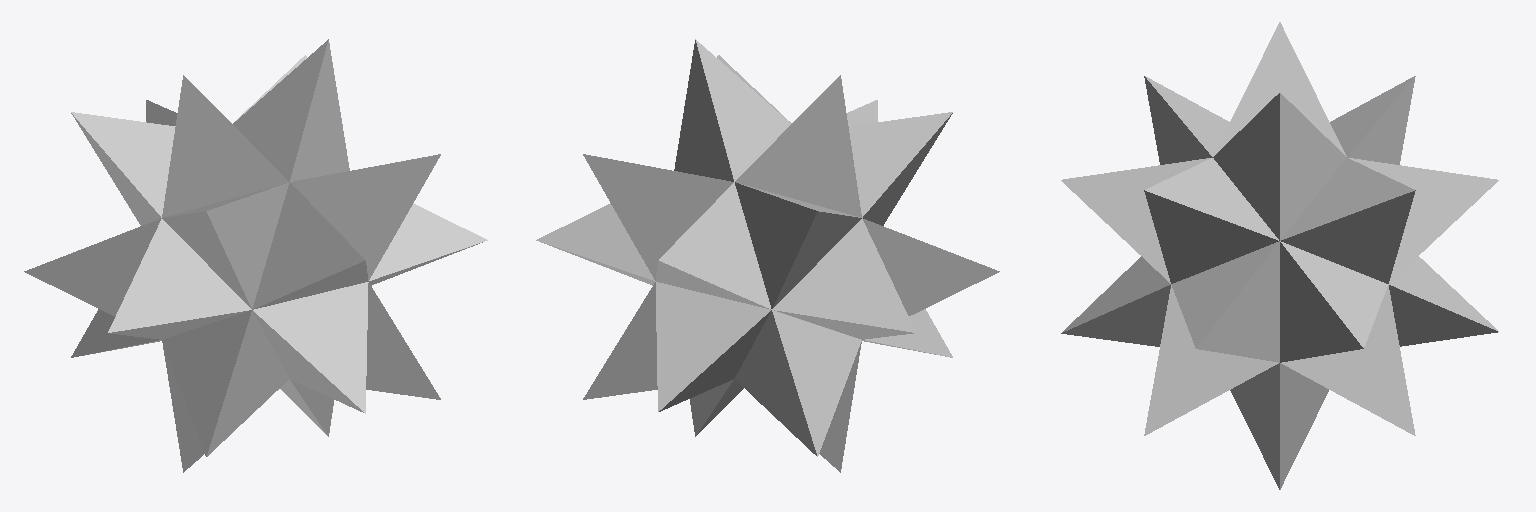
Rendered from Icosaedro (Memory Fragment).obj.
3 views of the same model, side by side, from view 1: azimuth 30°, elevation 25°; view 2: azimuth 150°, elevation 25°; view 3: azimuth 270°, elevation 25° (orthographic).
Visible parts, largest first — view 1: Mesh1 Group1 Model; view 2: Mesh1 Group1 Model; view 3: Mesh1 Group1 Model.
Boxes of the visible parts, x1,y1,x2,y2 form: Mesh1 Group1 Model: [24, 39, 487, 472]; Mesh1 Group1 Model: [536, 39, 999, 472]; Mesh1 Group1 Model: [1061, 22, 1498, 489].
Size of the model in its own units: 0.2818 by 0.2818 by 0.282.